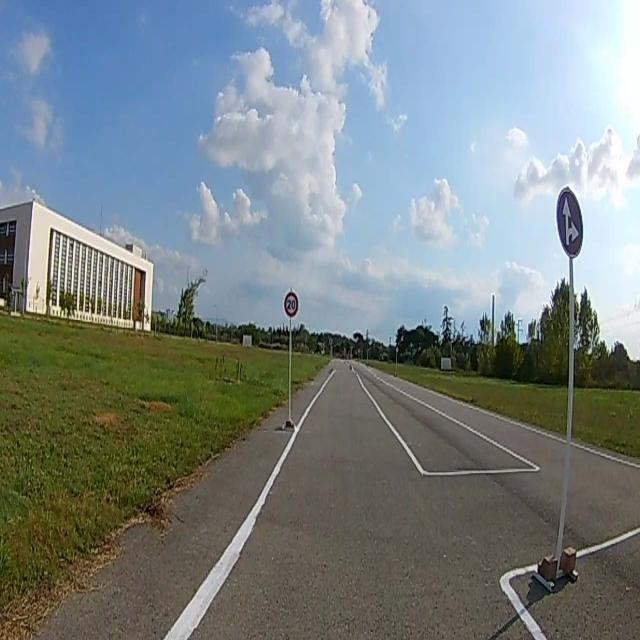20: (284, 292, 298, 317)
ilerisag: (557, 187, 585, 257)
